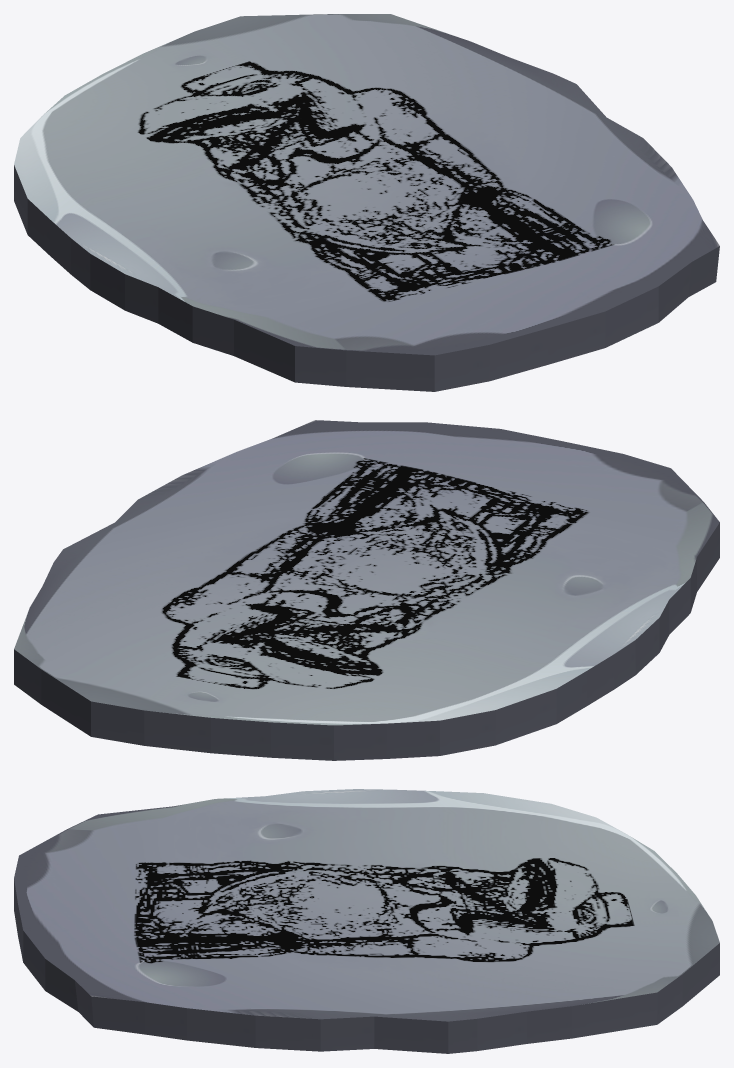
The model's file is runeTawaret.glb.
3 views of the same model, one above another, from view 1: azimuth 30°, elevation 25°; view 2: azimuth 150°, elevation 25°; view 3: azimuth 270°, elevation 25° (orthographic). The views are drawn at different scales.
Parts seen in each view (by area): view 1: rune; view 2: rune; view 3: rune.
Part boxes in pixels (bbox=[...]): rune: bbox=[14, 14, 719, 391]; rune: bbox=[14, 420, 719, 760]; rune: bbox=[14, 789, 719, 1053].
Size of the model in its own units: 0.7844 by 0.0509 by 1.01.
1 material, 1 textured.
